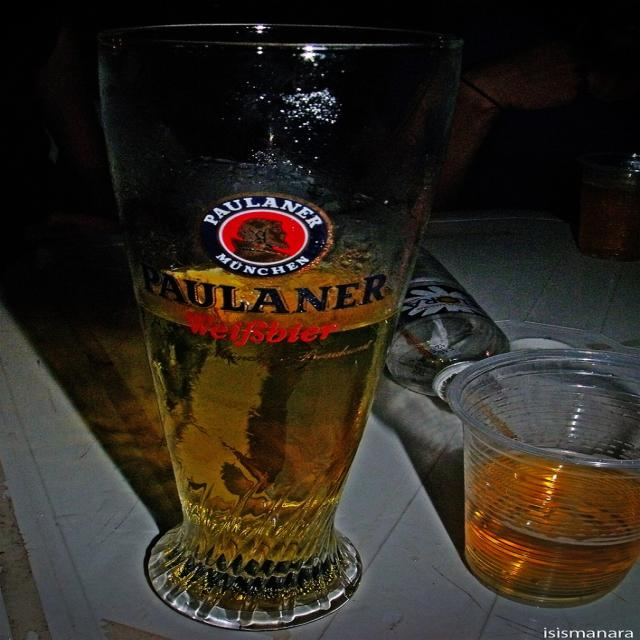paulaner: (197, 193, 333, 279)
